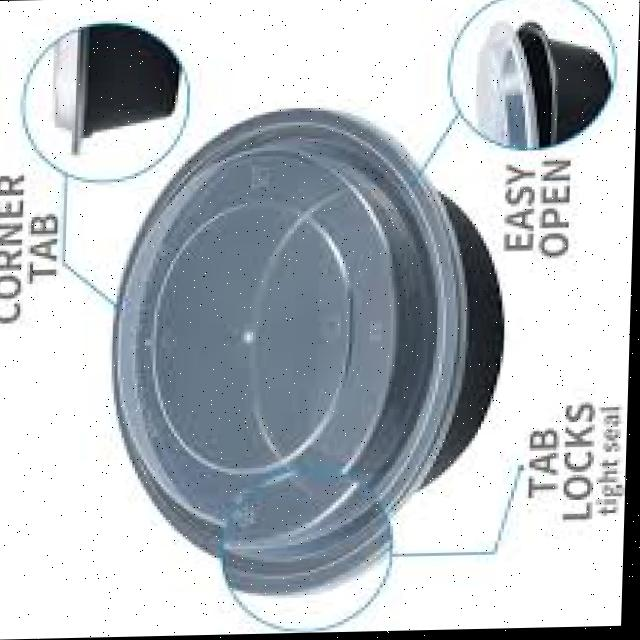disposable: (94, 83, 539, 582)
